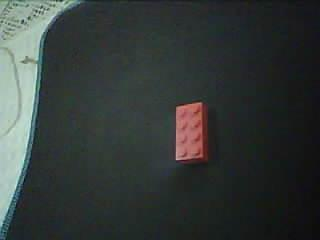lego: (173, 101, 208, 165)
